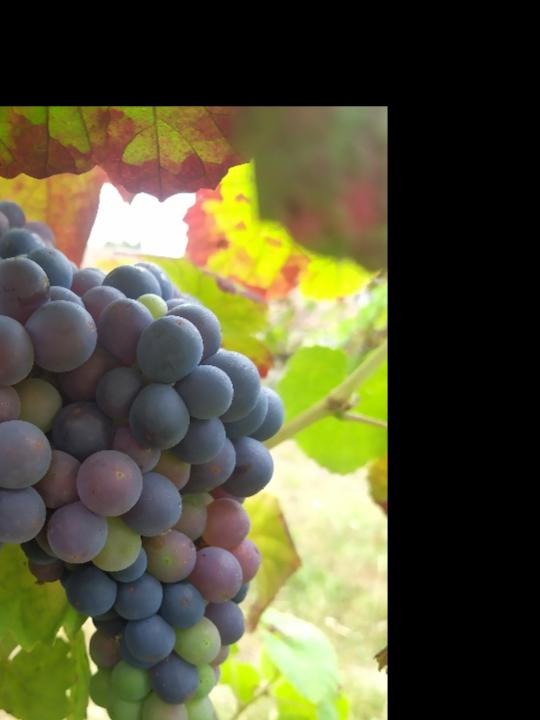grape: (0, 242, 289, 720)
